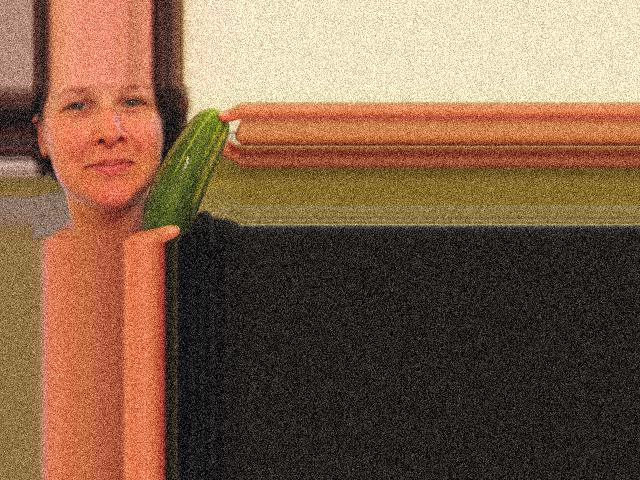cucumber: (141, 107, 228, 242)
